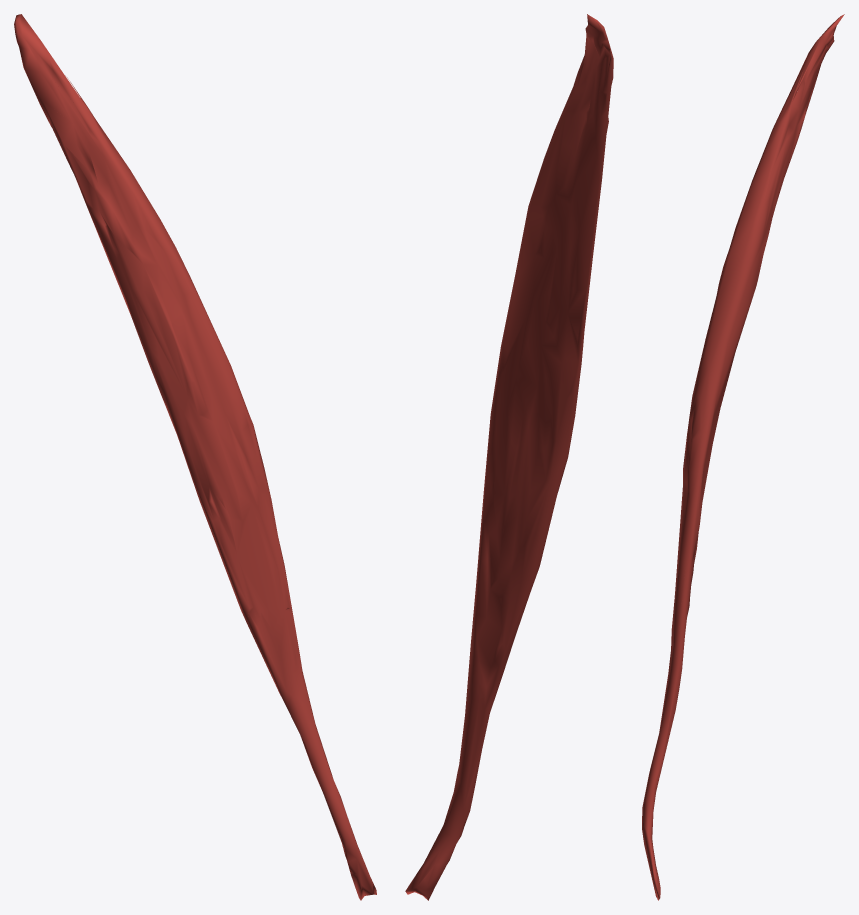
Rendered from musculos-flexor-carpi-radialis-l.glb.
The picture shows the model from 3 angles, left to right: view 1: azimuth 30°, elevation 25°; view 2: azimuth 150°, elevation 25°; view 3: azimuth 270°, elevation 25°; orthographic projection. The views are drawn at different scales.
Visible parts, largest first — view 1: Flexor carpi radialis.l; view 2: Flexor carpi radialis.l; view 3: Flexor carpi radialis.l.
Boxes of the visible parts, <box> form: Flexor carpi radialis.l: <box>14,14,376,900</box>; Flexor carpi radialis.l: <box>405,14,613,900</box>; Flexor carpi radialis.l: <box>642,14,844,900</box>.
Size of the model in its own units: 0.0906 by 0.2857 by 0.0676.
